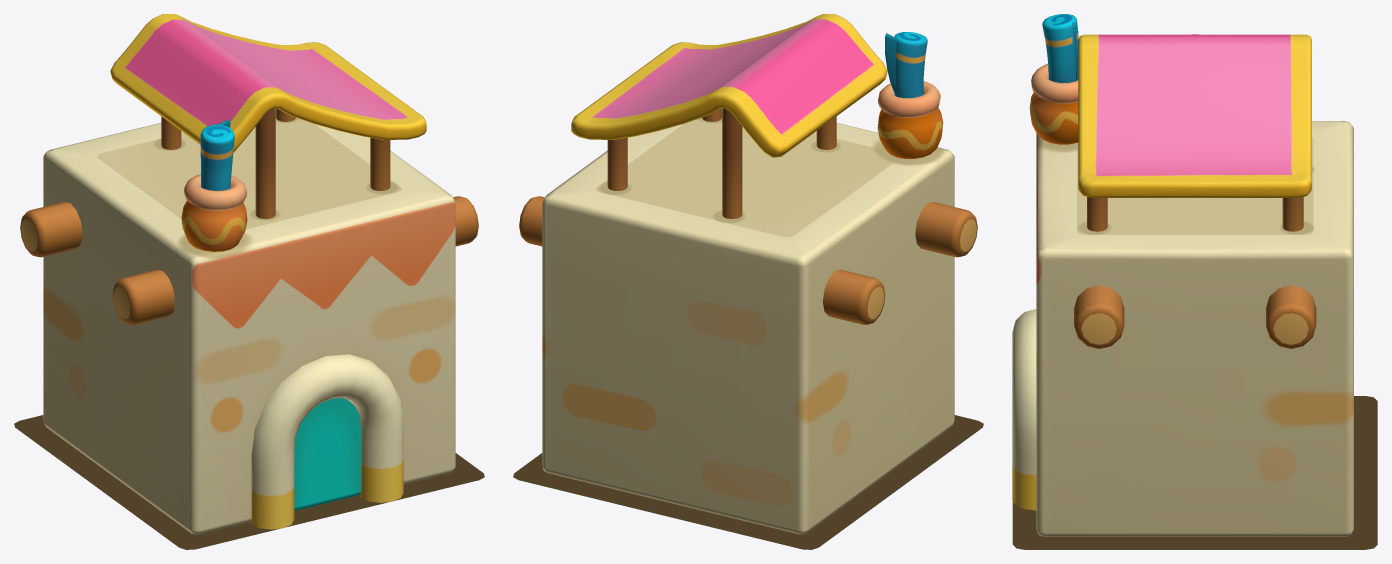
Rendered from E_House02.fbx.
3 renders of one model, left to right at view 1: azimuth 30°, elevation 25°; view 2: azimuth 150°, elevation 25°; view 3: azimuth 270°, elevation 25°, orthographic. The views are drawn at different scales.
Visible parts, largest first — view 1: E_house02_pCylinder63, E_house02_pCylinder66, pCube47, pTorus8; view 2: E_house02_pCylinder63, E_house02_pCylinder66, pCube47, pTorus8; view 3: E_house02_pCylinder63, E_house02_pCylinder66, pCube47, pTorus8.
Part boxes in pixels (bbox=[...]): E_house02_pCylinder63: bbox=[20, 108, 478, 534]; E_house02_pCylinder66: bbox=[110, 14, 426, 218]; pCube47: bbox=[14, 415, 484, 549]; pTorus8: bbox=[181, 119, 247, 251]; E_house02_pCylinder63: bbox=[519, 108, 977, 534]; E_house02_pCylinder66: bbox=[571, 14, 887, 218]; pCube47: bbox=[513, 415, 983, 549]; pTorus8: bbox=[877, 32, 943, 158]; E_house02_pCylinder63: bbox=[1012, 121, 1353, 536]; E_house02_pCylinder66: bbox=[1078, 34, 1311, 231]; pCube47: bbox=[1012, 396, 1377, 549]; pTorus8: bbox=[1029, 14, 1078, 144].
Bounding box in the file's own units: 241 × 268 × 211.
